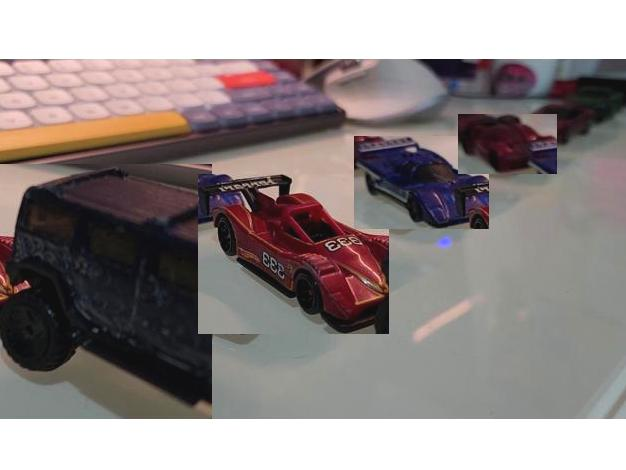toy-car: (0, 164, 212, 419), (199, 175, 390, 335), (355, 136, 490, 229), (459, 115, 558, 175), (522, 102, 595, 145)
